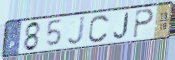5: (45, 18, 63, 48)
8: (23, 20, 42, 53)
C: (87, 13, 111, 44)
J: (67, 15, 87, 47), (112, 11, 130, 40)
P: (131, 8, 155, 39)
